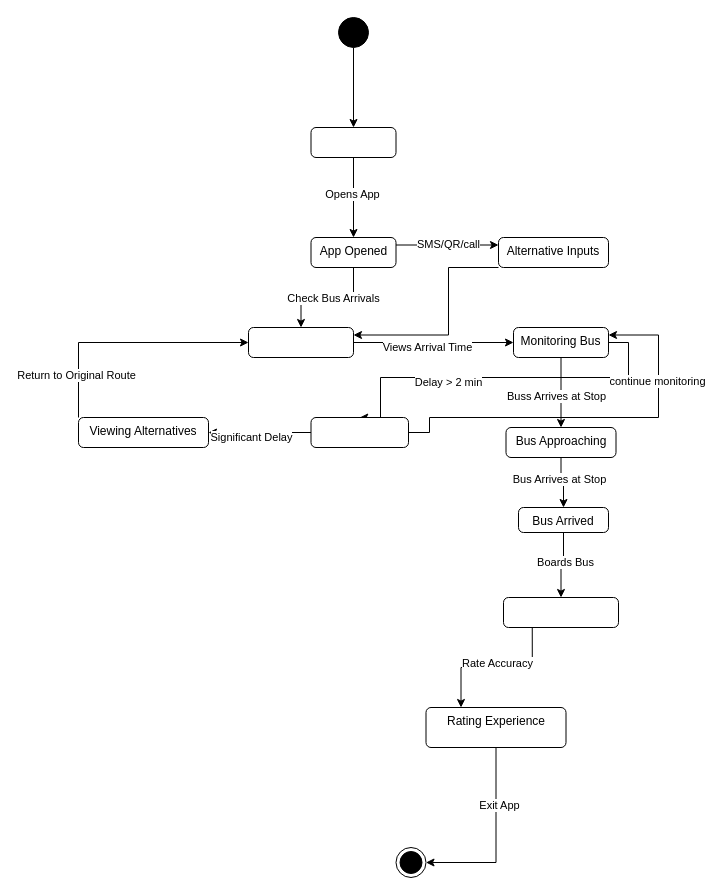
Some shapes in this 722 by 895 pixel diagram are drawn without their labels. Each missing label, with the centre of its shape:
"App Closed" goes at [353,142].
"Checking Arrivals" goes at [301,342].
"Deley Detected" goes at [359,432].
"Journey complete" goes at [560,612].
